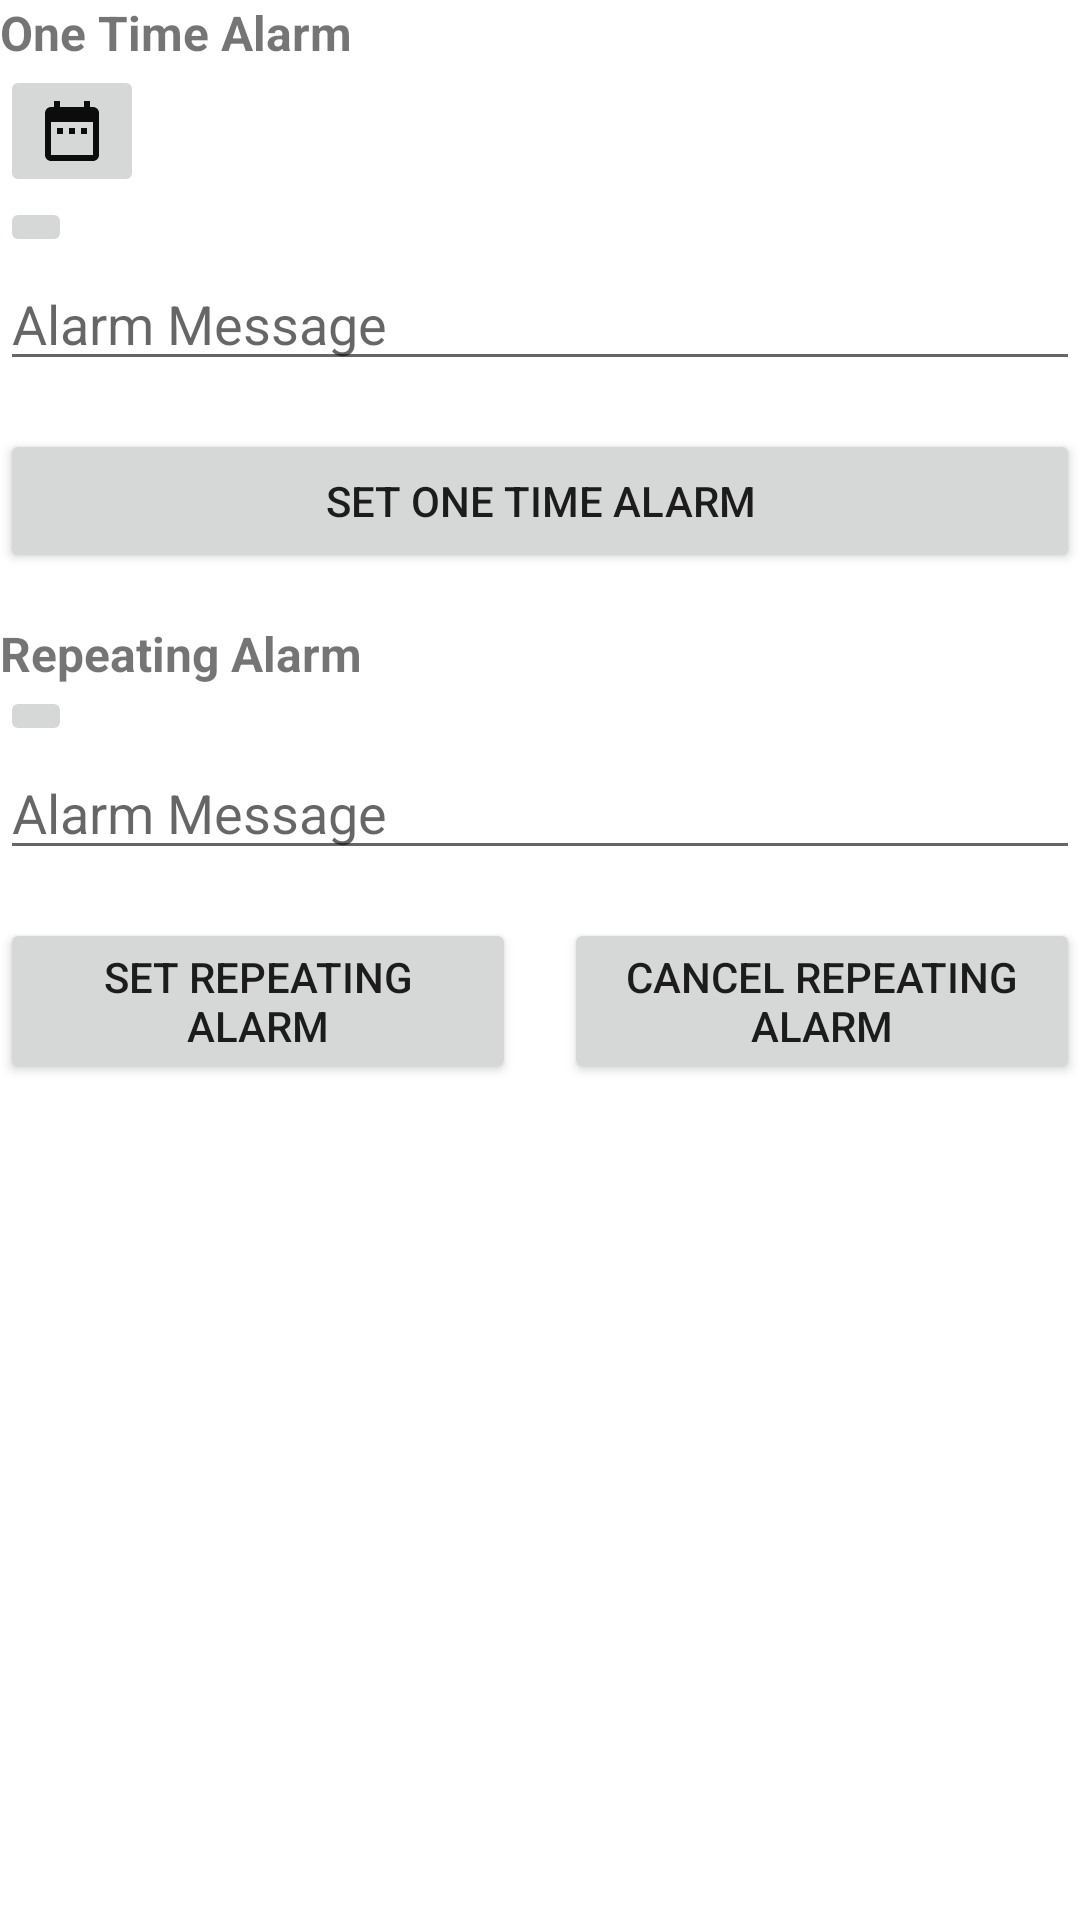

Where to tap for icons on this 1080 x 1920 app screen, as (x,y):
date range: (72,131)
